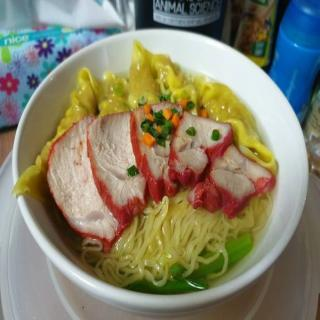carbs: (109, 198, 223, 273)
meat: (71, 54, 242, 119), (54, 120, 147, 226), (177, 108, 262, 212)
noodles: (44, 52, 266, 288)
veg: (134, 276, 206, 300), (199, 238, 252, 266), (147, 110, 171, 144)
